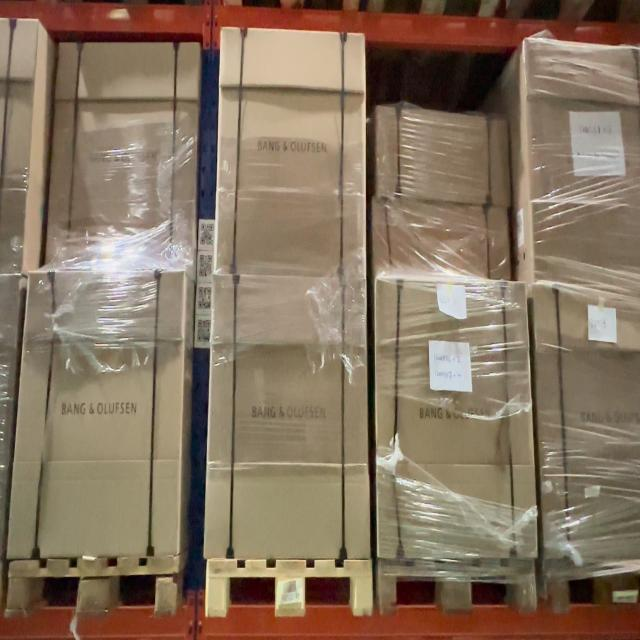box: (7, 272, 184, 561), (203, 273, 371, 560), (376, 279, 537, 560), (216, 29, 366, 279), (44, 42, 201, 274), (376, 102, 510, 209), (372, 196, 511, 280)
